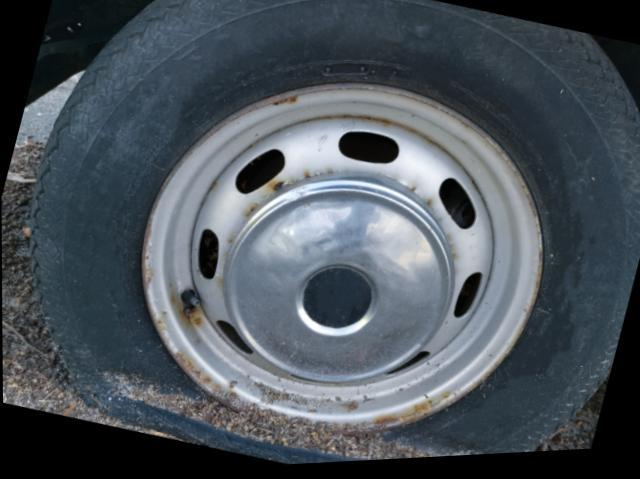tire flat: (32, 0, 640, 467)
